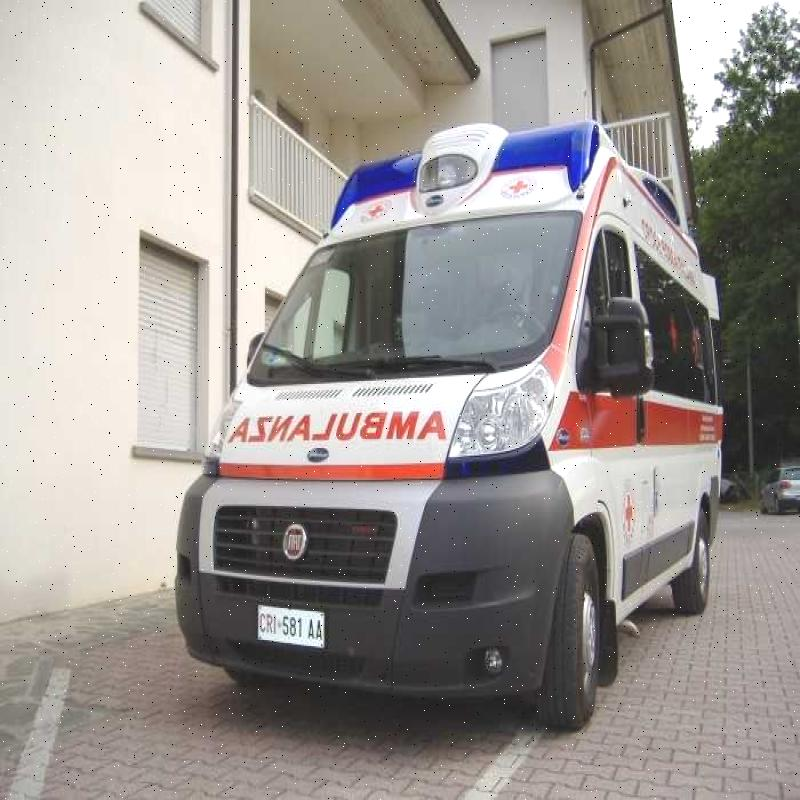ambulance: (151, 111, 736, 718)
